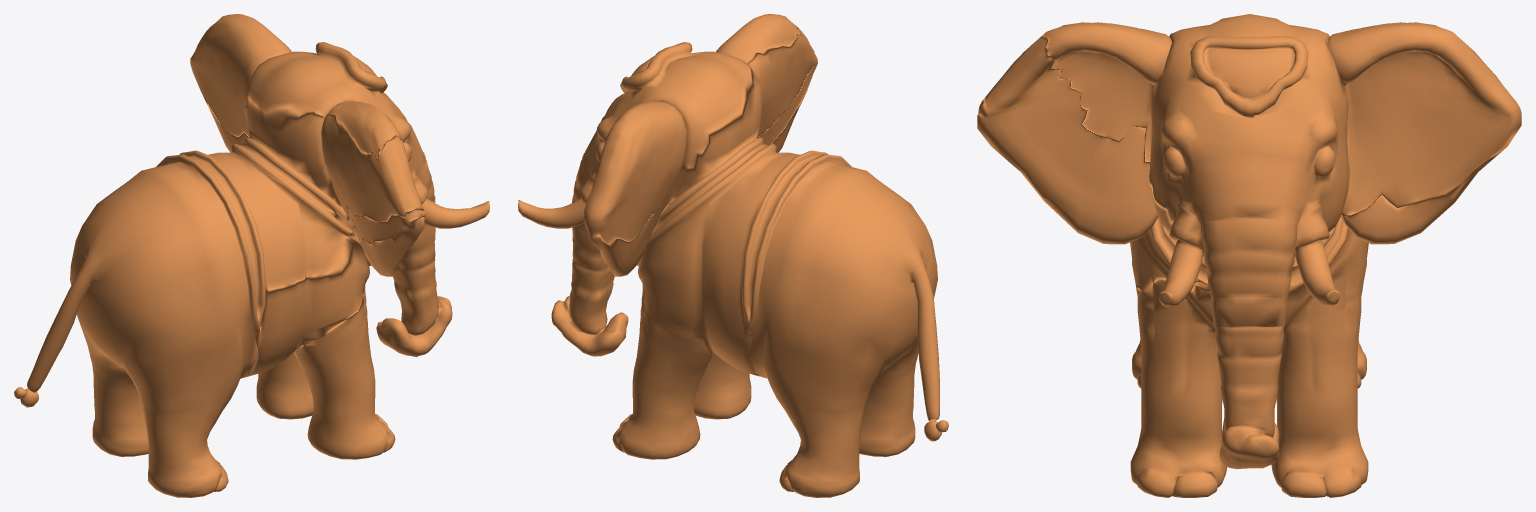
Rendered from elephant-flat.glb.
The picture shows the model from 3 angles, left to right: view 1: azimuth 30°, elevation 25°; view 2: azimuth 150°, elevation 25°; view 3: azimuth 270°, elevation 25°; orthographic projection. The views are drawn at different scales.
Visible parts, largest first — view 1: tripo_node_e2bda30e-3b05-4b57-ad87-67be62fad1a8; view 2: tripo_node_e2bda30e-3b05-4b57-ad87-67be62fad1a8; view 3: tripo_node_e2bda30e-3b05-4b57-ad87-67be62fad1a8.
Boxes of the visible parts, x1,y1,x2,y2 form: tripo_node_e2bda30e-3b05-4b57-ad87-67be62fad1a8: [14, 14, 489, 497]; tripo_node_e2bda30e-3b05-4b57-ad87-67be62fad1a8: [518, 14, 948, 497]; tripo_node_e2bda30e-3b05-4b57-ad87-67be62fad1a8: [977, 14, 1521, 497].
Size of the model in its own units: 0.359 by 0.3 by 0.3267.
